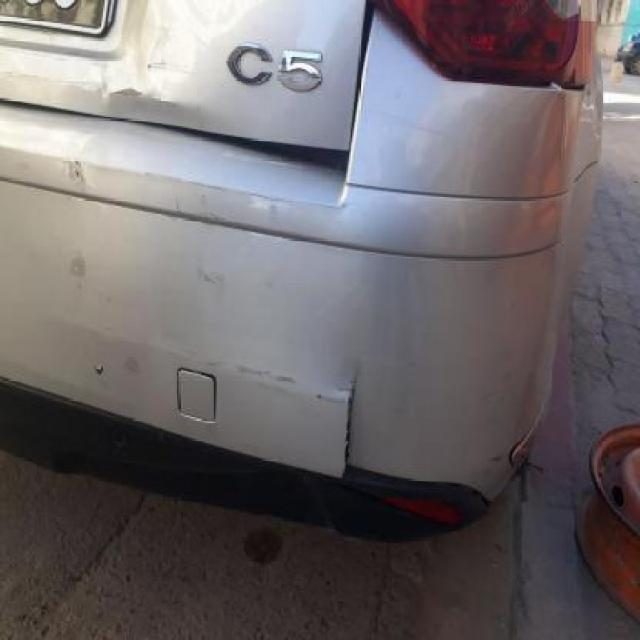car damage: (85, 0, 260, 131), (338, 363, 361, 479)
